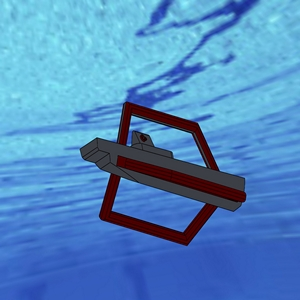submarine: (55, 72, 258, 271)
